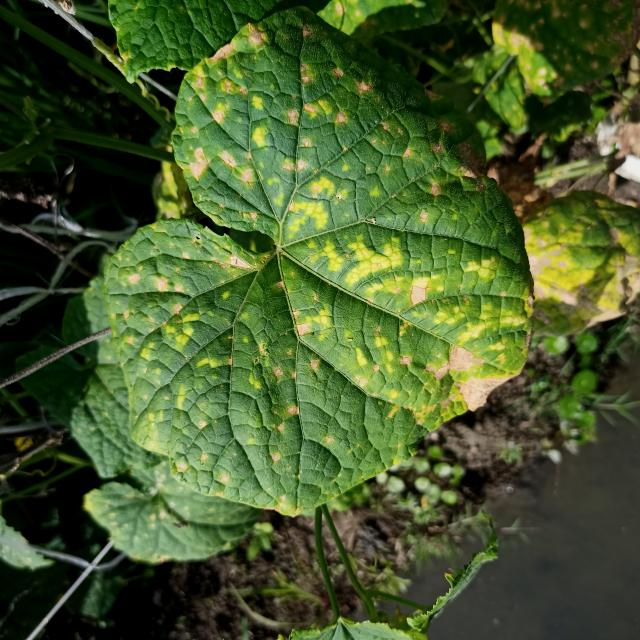disease_cucumber: (116, 15, 515, 480)
